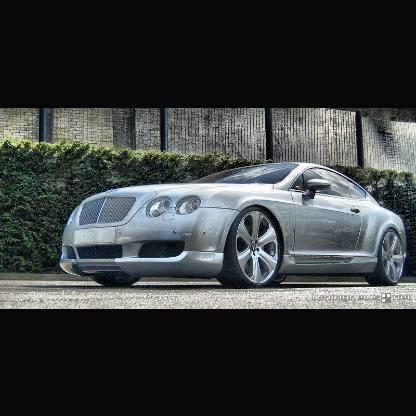Bentley Continental GT Coupe 2007: (61, 162, 408, 289)
